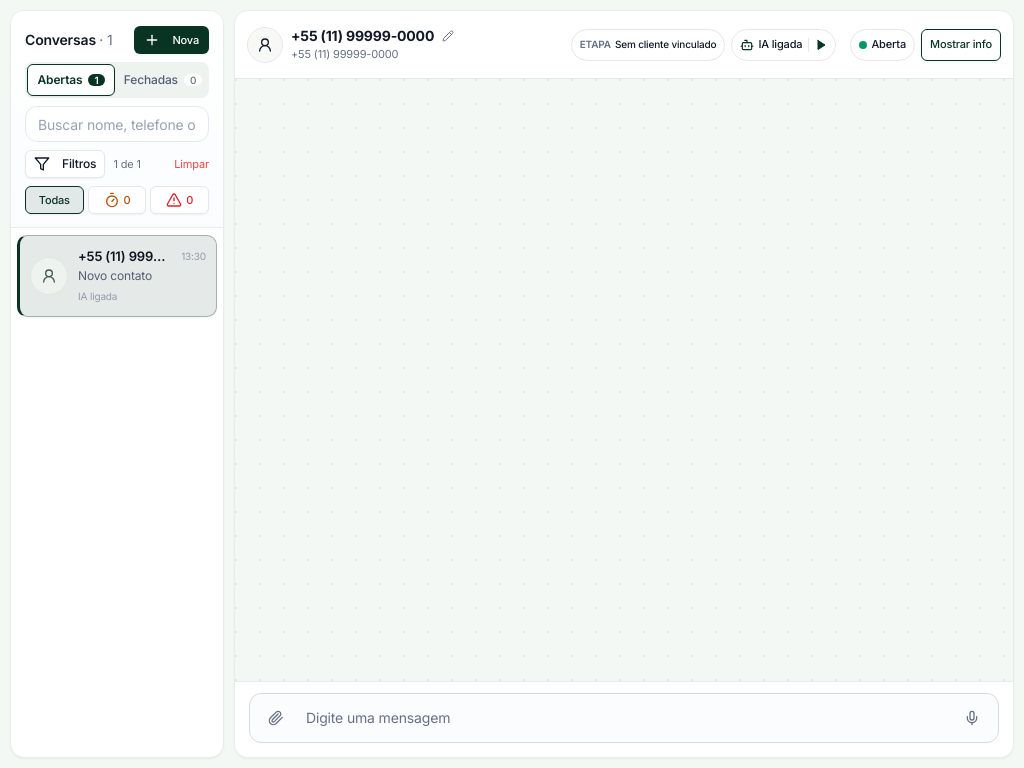
Scenario: deixa entrar em filtro vazio, sempre com a saída à vista
Expected: the button named "Urgente: 0 conversas" is enabled, 150,186 -> 209,214
Click the button named "Atrasando: 0 conversas" at (117, 200), box 88,186 -> 146,214
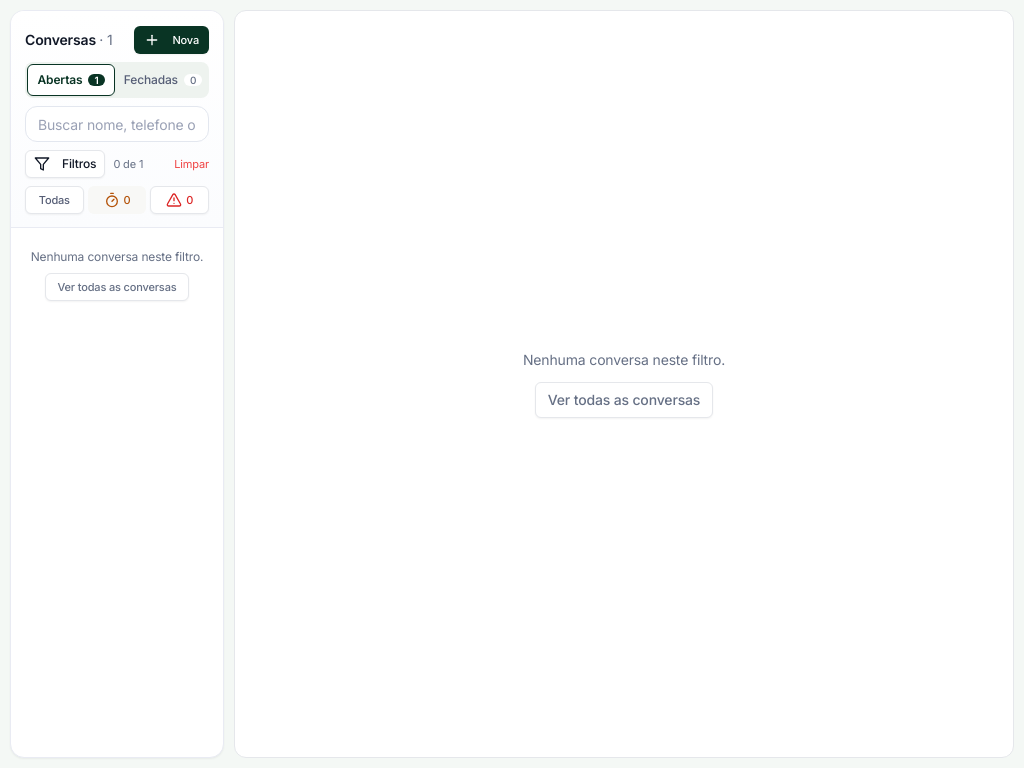
Now the button "Ver todas as conversas" below "de" is shown
Click the button "Ver todas as conversas" below "de" at (117, 287), box 44,273 -> 190,301
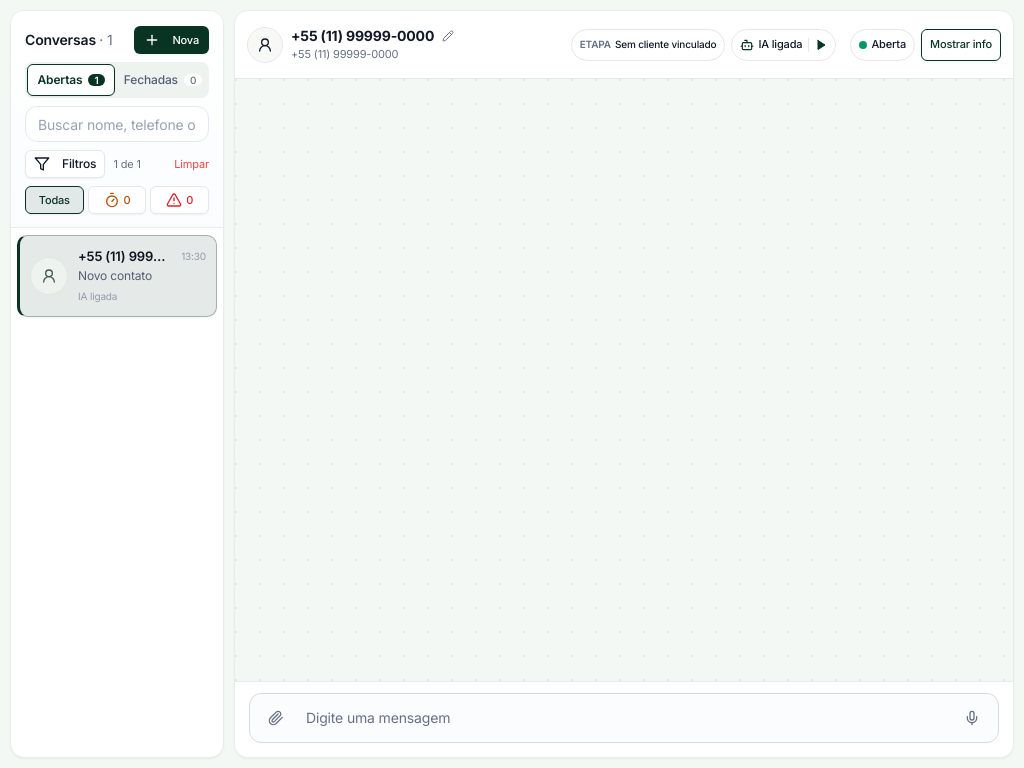
Now the text "Nenhuma conversa neste filtro" is gone
Type "contato-que-nao-existe" into the field named "Buscar conversas" at (117, 124), box 25,106 -> 209,142
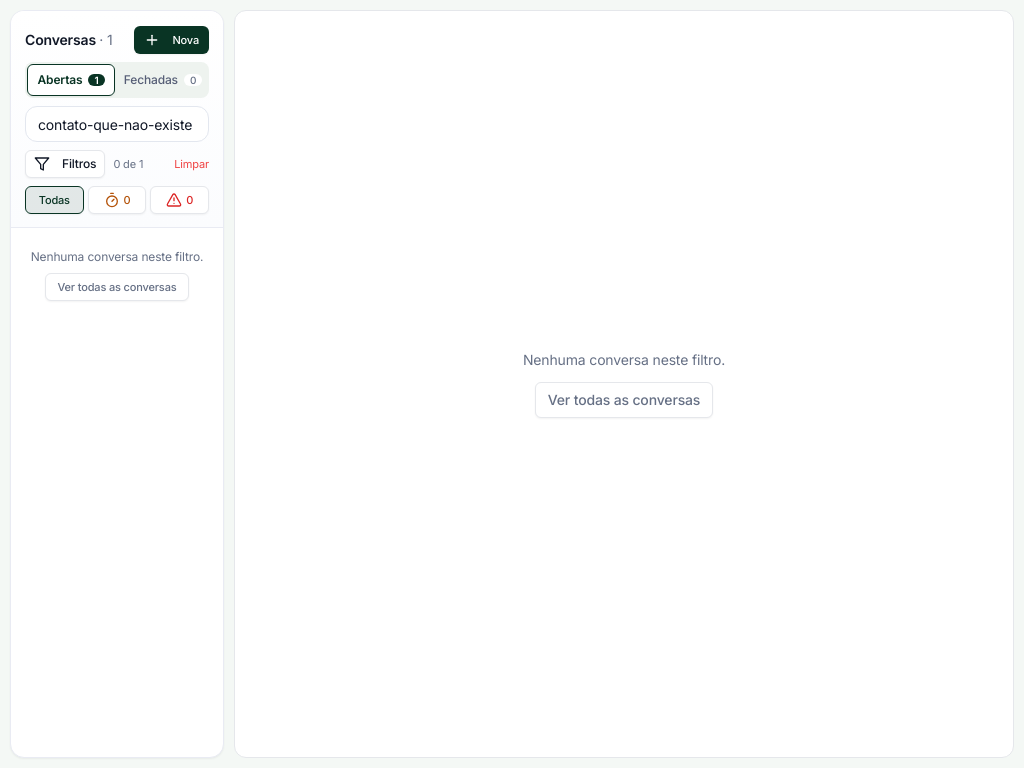
Now the button "Ver todas as conversas" below "de" is shown
Click the button "Ver todas as conversas" below "de" at (117, 287), box 44,273 -> 190,301
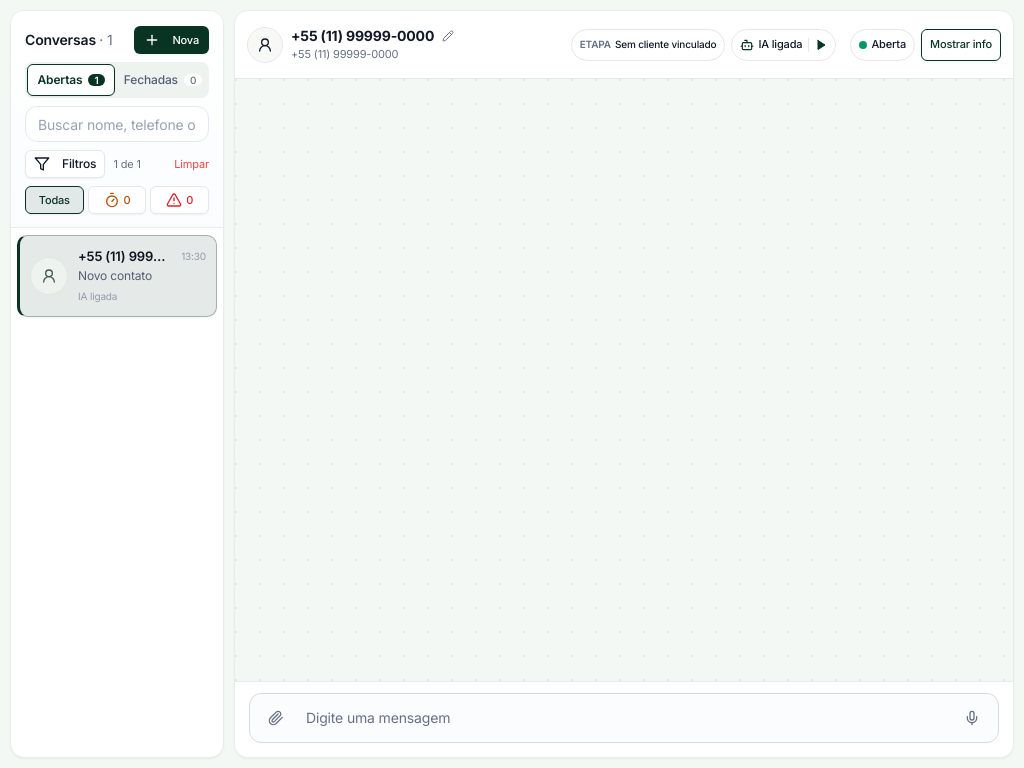
Now the text "Nenhuma conversa neste filtro" is gone
